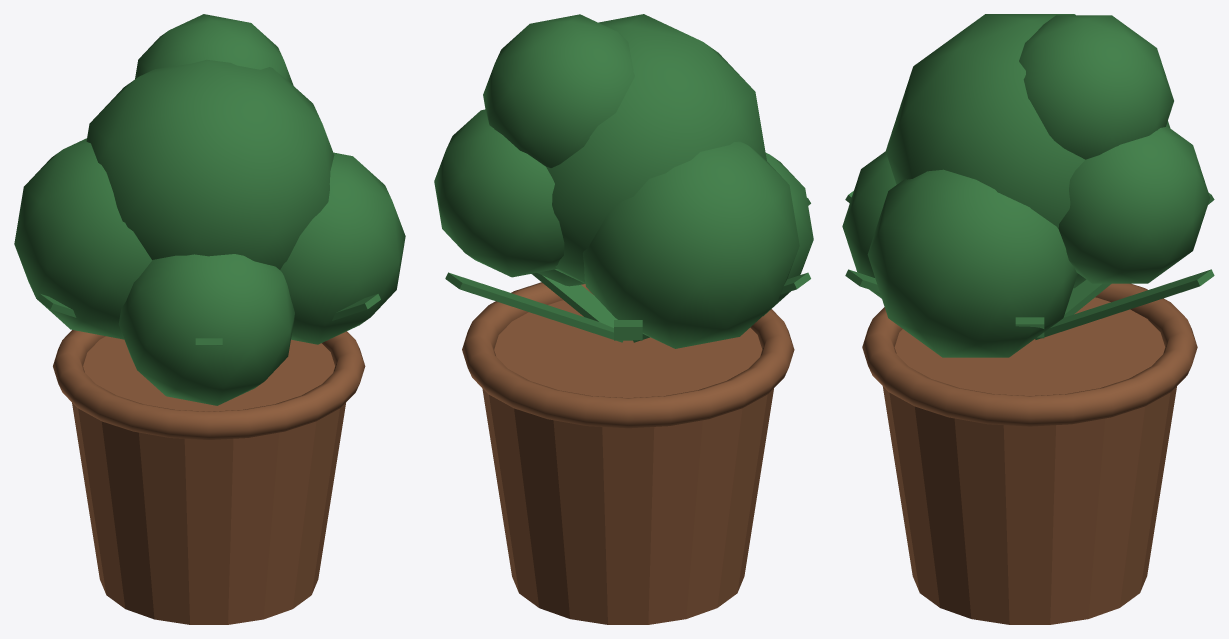
File: potted-plant.glb
3 views of the same model, side by side, from view 1: azimuth 30°, elevation 25°; view 2: azimuth 150°, elevation 25°; view 3: azimuth 270°, elevation 25° (orthographic). The views are drawn at different scales.
Parts seen in each view (by area): view 1: part-leaves, part-pot; view 2: part-leaves, part-pot; view 3: part-leaves, part-pot.
Boxes of the visible parts, x1,y1,x2,y2 form: part-leaves: (14,14,405,405); part-pot: (53,330,365,624); part-leaves: (434,14,813,348); part-pot: (462,282,794,624); part-leaves: (842,14,1214,357); part-pot: (862,283,1197,624).
Bounding box in the file's own units: 22.72 × 35 × 20.64.
